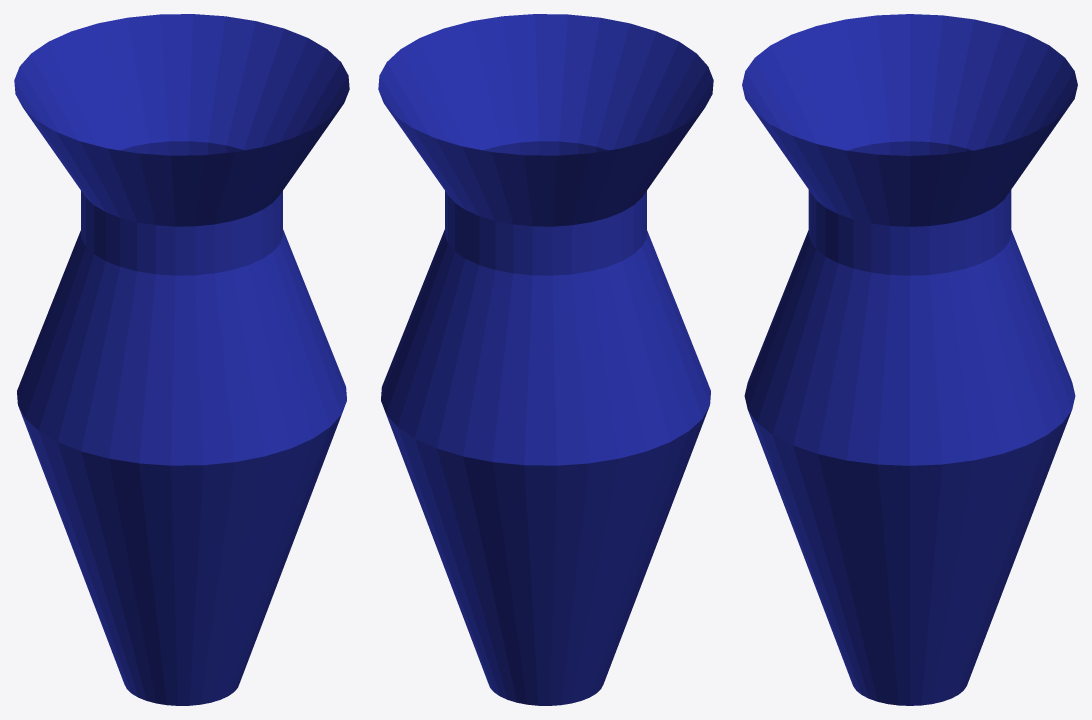
File: Vase 1.fbx
3 views of the same model, side by side, from view 1: azimuth 30°, elevation 25°; view 2: azimuth 150°, elevation 25°; view 3: azimuth 270°, elevation 25° (orthographic).
Parts seen in each view (by area): view 1: Vase; view 2: Vase; view 3: Vase.
Boxes of the visible parts, x1=… form: Vase: x1=14, y1=14, x2=349, y2=705; Vase: x1=378, y1=14, x2=713, y2=705; Vase: x1=742, y1=14, x2=1077, y2=705.
Bounding box in the file's own units: 391 × 765 × 391.
